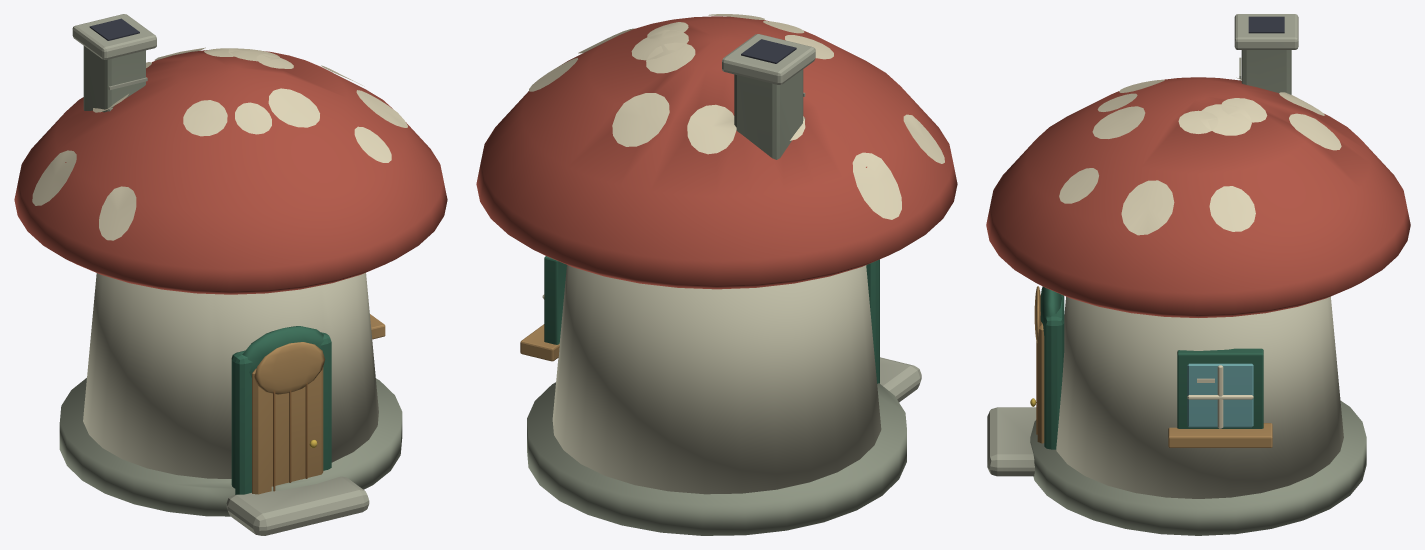
File: house_mushroom.glb
The picture shows the model from 3 angles, left to right: view 1: azimuth 30°, elevation 25°; view 2: azimuth 150°, elevation 25°; view 3: azimuth 270°, elevation 25°; orthographic projection. The views are drawn at different scales.
Parts seen in each view (by area): view 1: house_mushroom; view 2: house_mushroom; view 3: house_mushroom.
Boxes of the visible parts, x1=… form: house_mushroom: x1=14, y1=14, x2=447, y2=535; house_mushroom: x1=476, y1=14, x2=957, y2=535; house_mushroom: x1=986, y1=14, x2=1410, y2=535.
Size of the model in its own units: 2.12 by 2.21 by 2.12.
